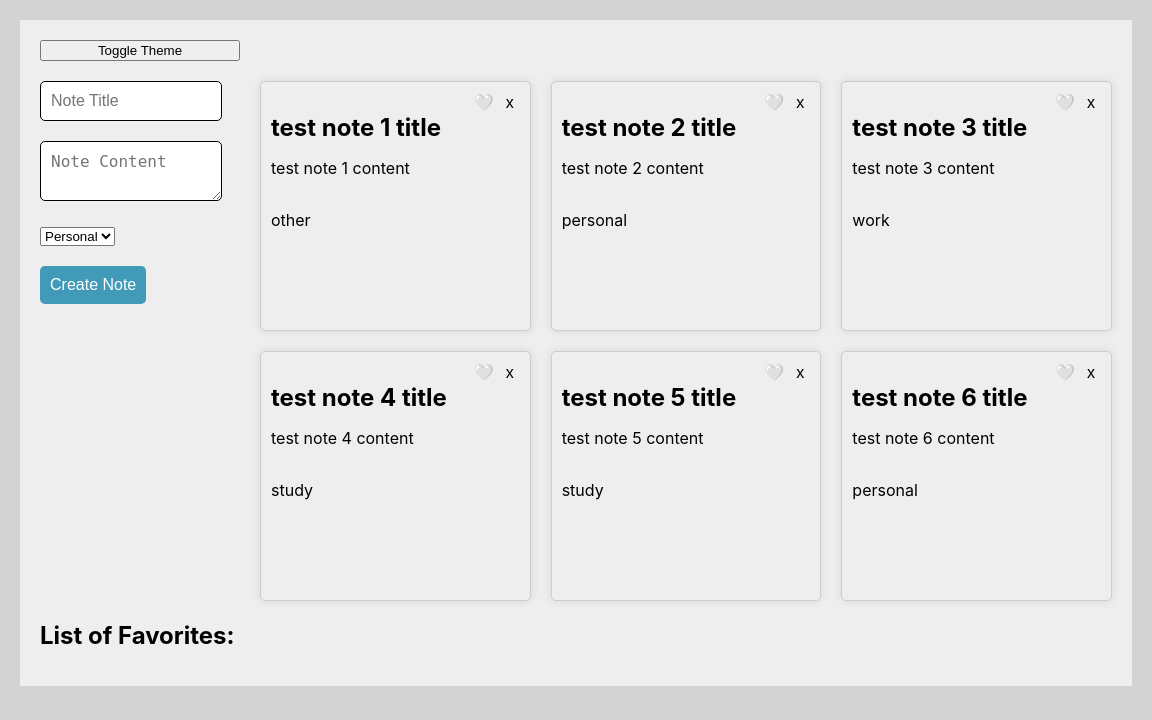
Test: test like
The image size is (1152, 720).
Step 1. Click the 1st button "🤍" → (484, 102), box [468, 92, 500, 113]
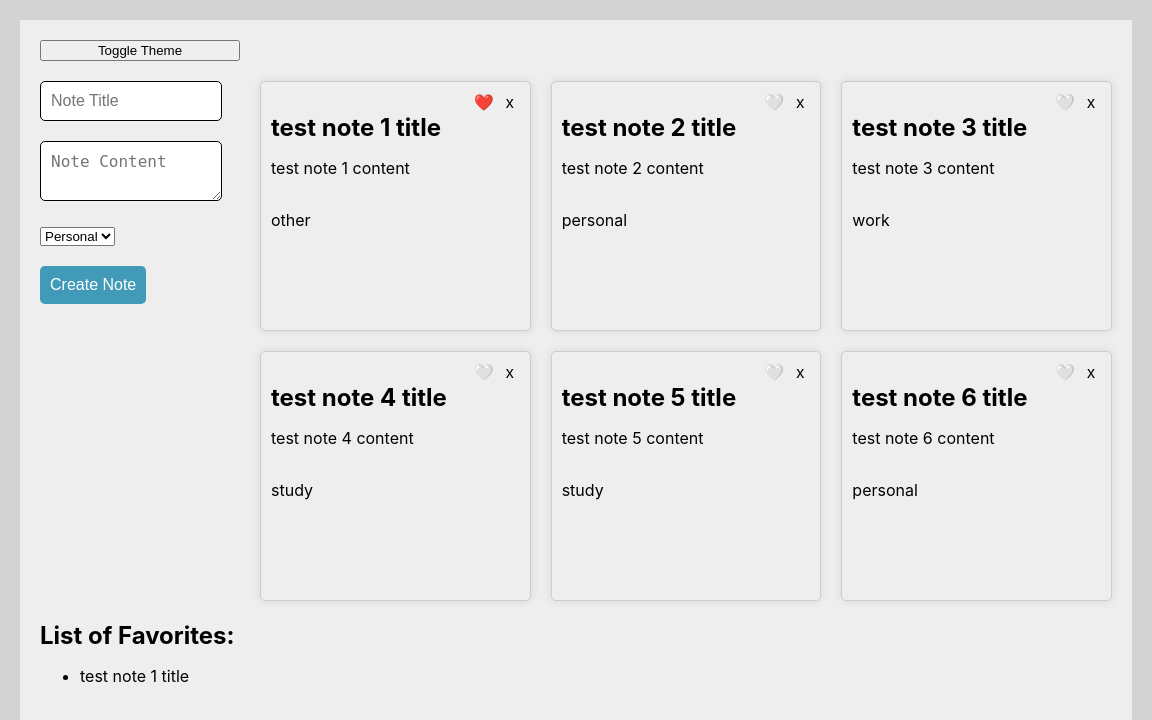
Expected: the number of headings "test note 1 title" is 2, [271, 113, 441, 142]; [80, 666, 189, 686]
Now the button "❤️" is shown, box [468, 92, 500, 113]
